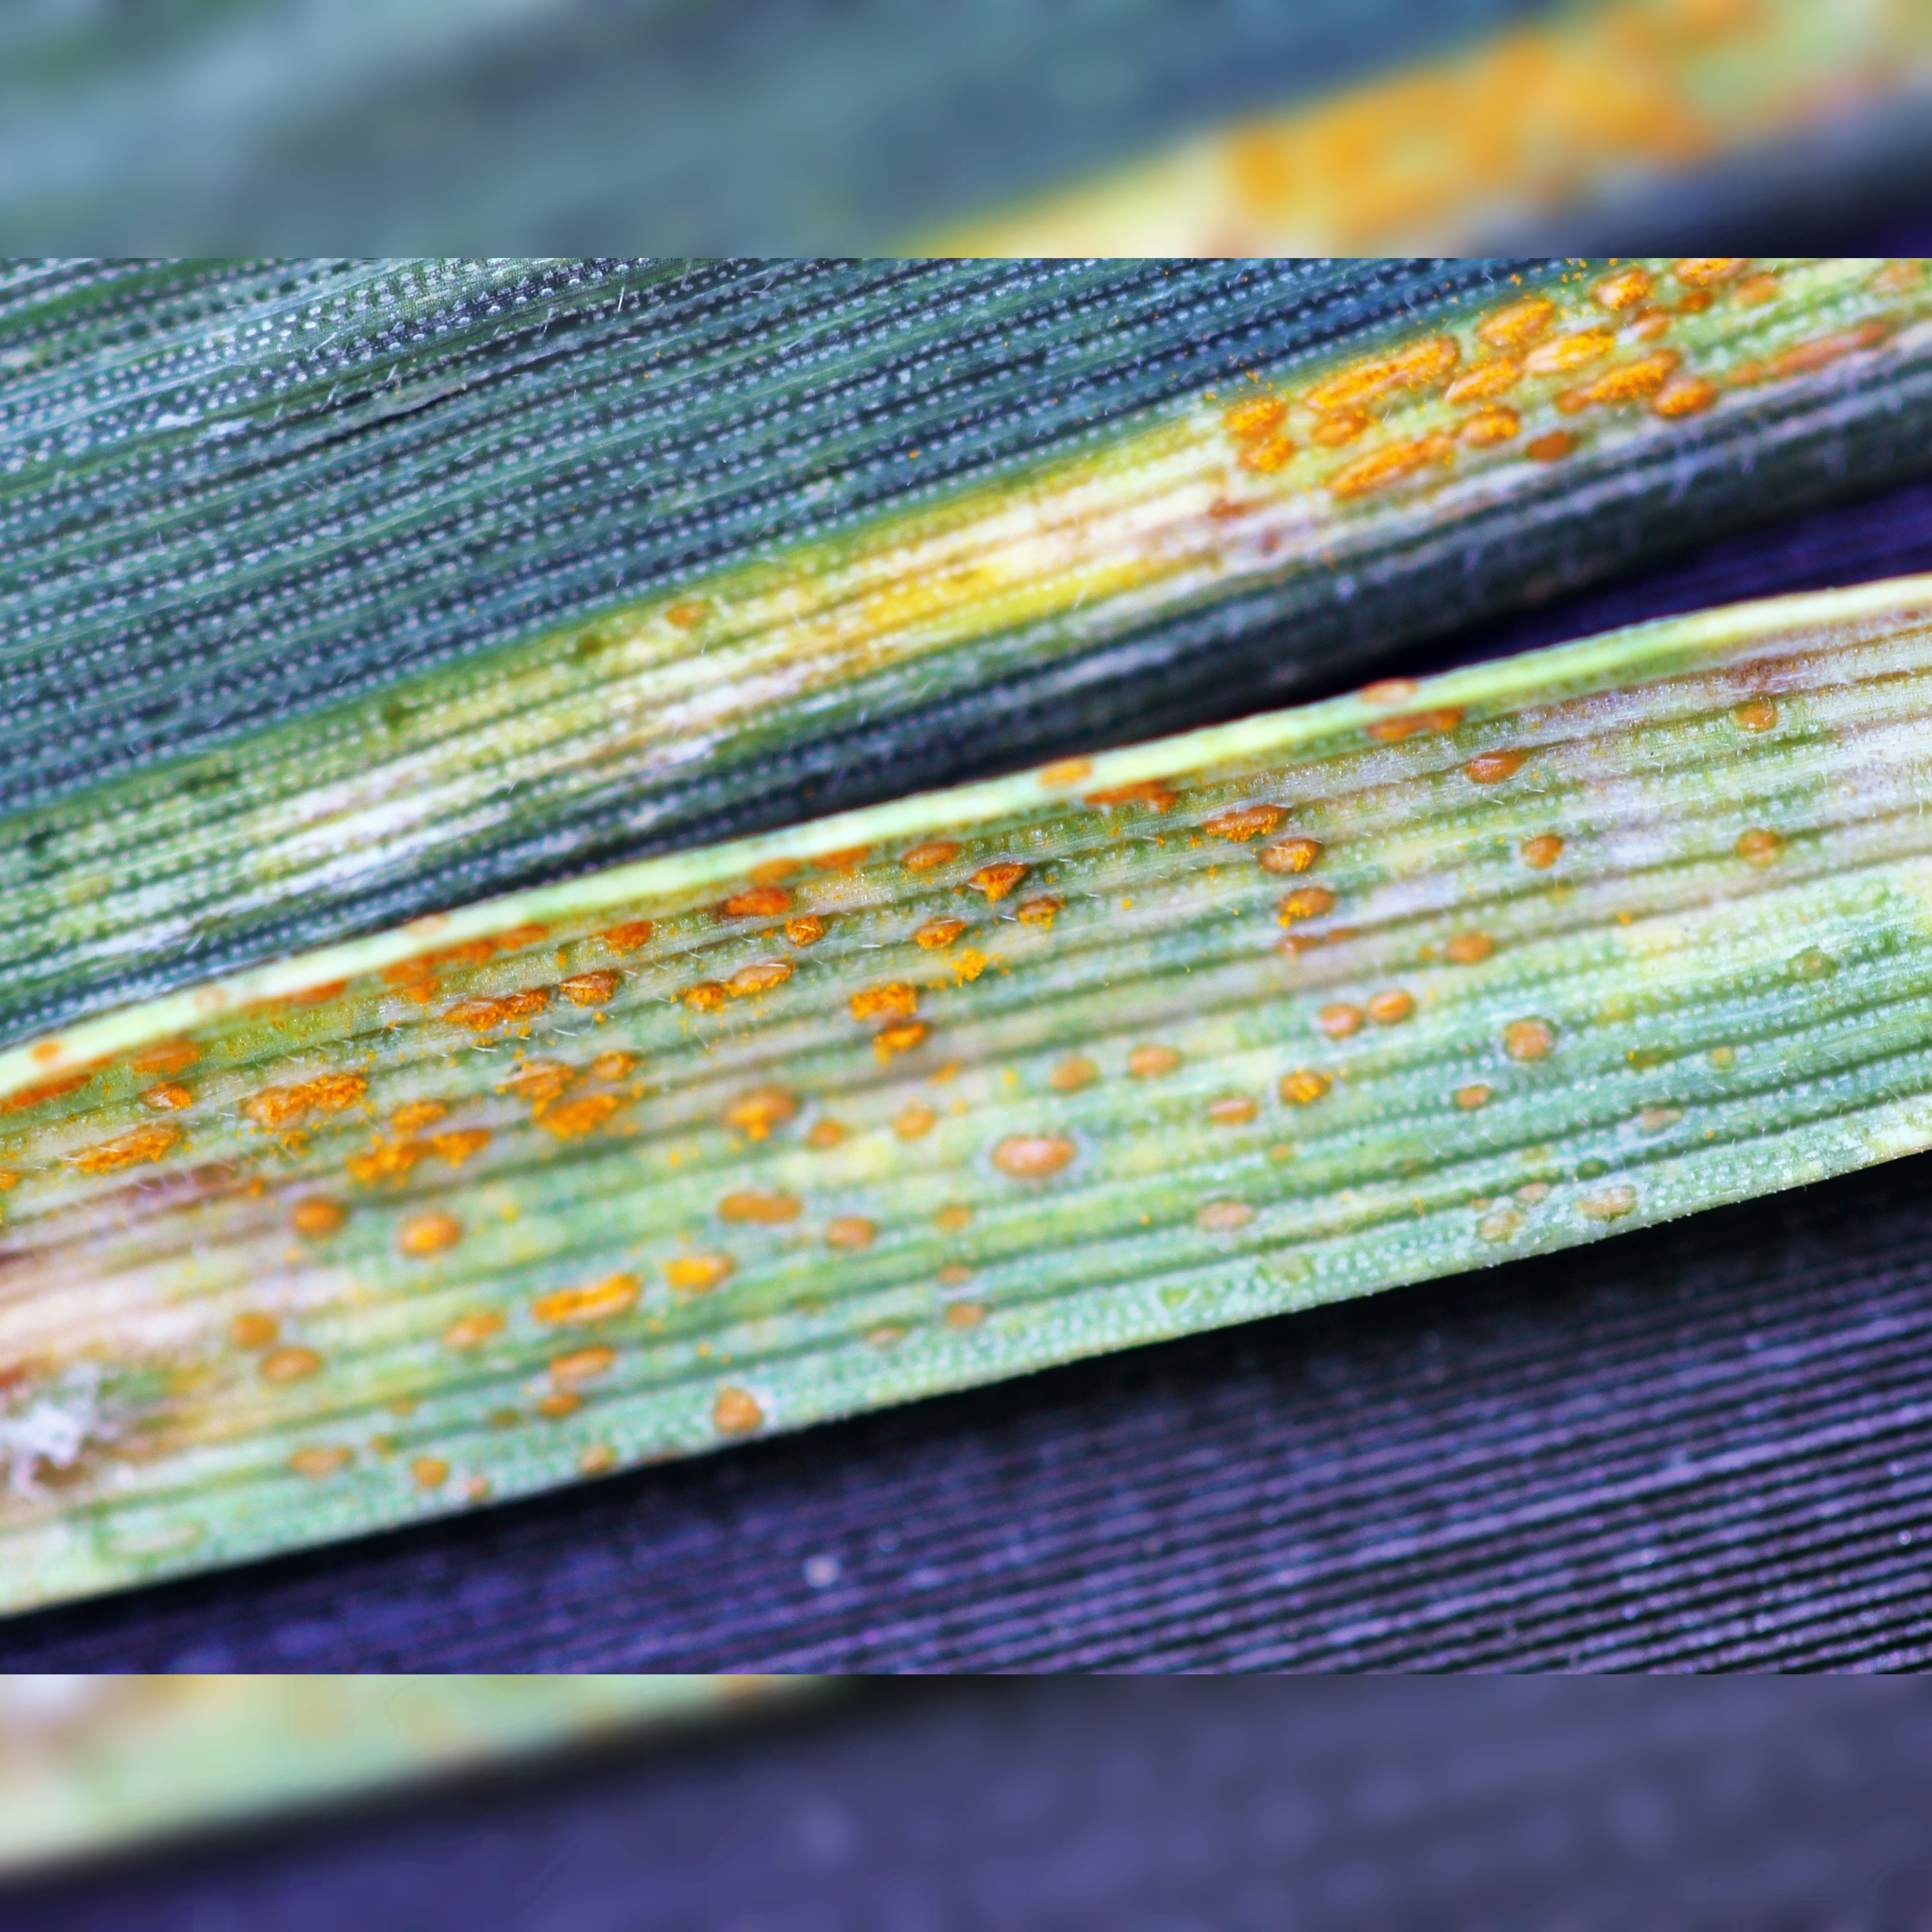Leaf Rust: (87, 671, 1822, 1479)
